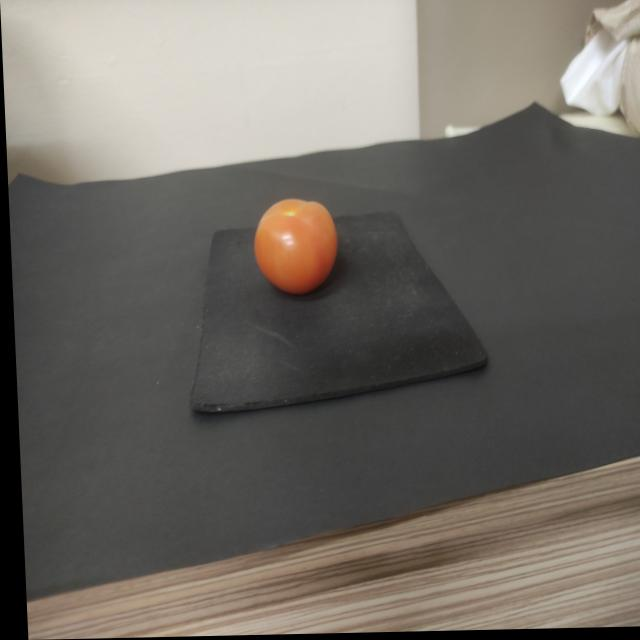sari: (239, 184, 346, 304)
